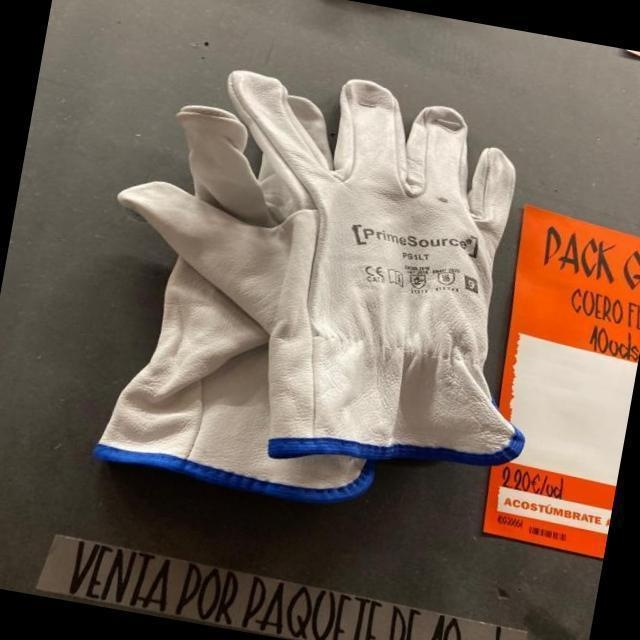Guantes: (92, 68, 526, 502)
